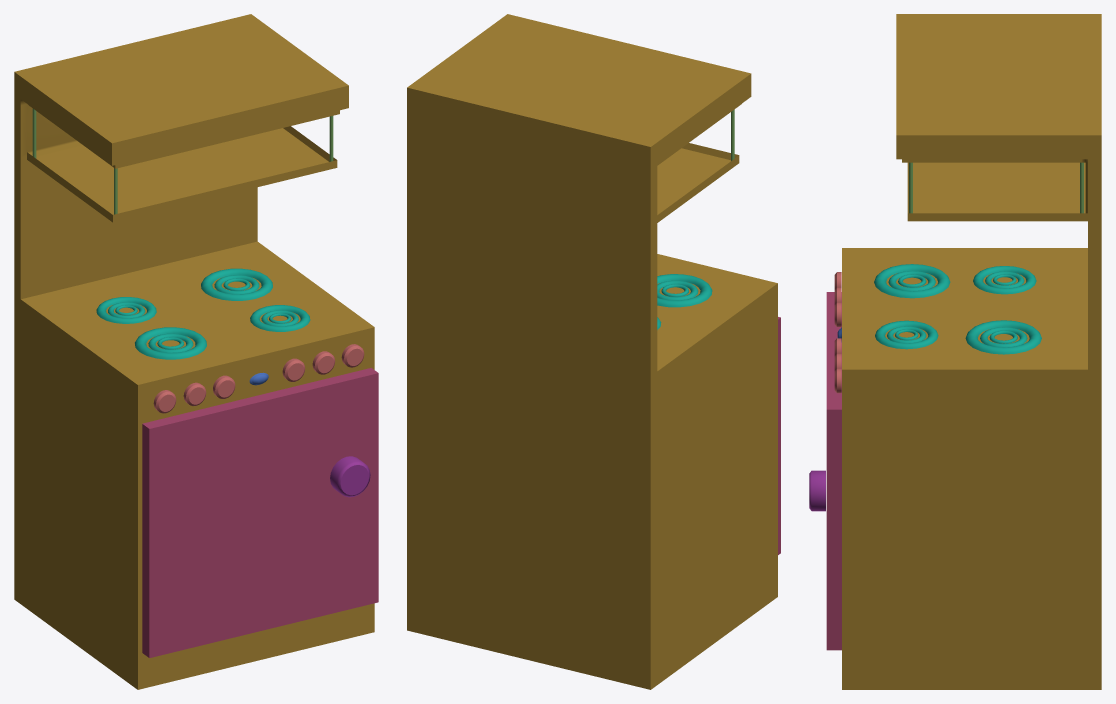
File: Cooker_Low.fbx
The picture shows the model from 3 angles, left to right: view 1: azimuth 30°, elevation 25°; view 2: azimuth 150°, elevation 25°; view 3: azimuth 270°, elevation 25°; orthographic projection. The views are drawn at different scales.
Visible parts, largest first — view 1: cooker_base_low, cooker_door_low, hob_low, cooker_dials_low, cooker_door_handle_low, grill_pillar_low; view 2: cooker_base_low, hob_low, cooker_door_low; view 3: cooker_base_low, hob_low, cooker_door_low, cooker_dials_low, cooker_door_handle_low.
Part boxes in pixels (x1,y1,x2,y2): cooker_base_low: (14, 14, 374, 689); cooker_door_low: (142, 368, 378, 657); hob_low: (96, 268, 310, 359); cooker_dials_low: (153, 344, 364, 413); cooker_door_handle_low: (330, 456, 370, 497); grill_pillar_low: (32, 108, 333, 214); cooker_base_low: (407, 14, 777, 689); hob_low: (657, 274, 712, 329); cooker_door_low: (778, 317, 780, 554); cooker_base_low: (842, 14, 1101, 689); hob_low: (874, 264, 1041, 354); cooker_door_low: (826, 292, 841, 650); cooker_dials_low: (834, 272, 841, 393); cooker_door_handle_low: (809, 470, 825, 511).
Size of the model in its own units: 6.4 by 13.62 by 6.51.
